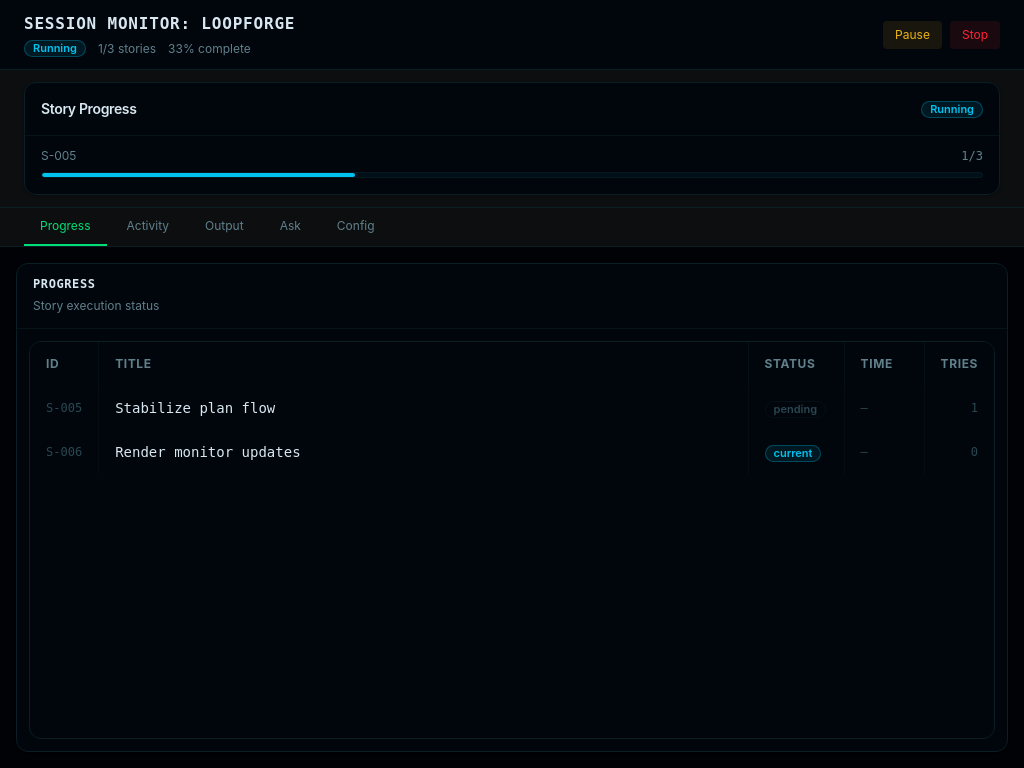
Scenario: Monitor › renders live session state and responds to iteration events
Check: the heading "SESSION MONITOR: LoopForge" is shown, box 24,14 -> 295,33
Check: the text "Running" is shown 2 times, box 24,40 -> 86,57; 921,100 -> 983,118
Step 1. Click the tab "Activity" → [148, 227], box 110,208 -> 185,246
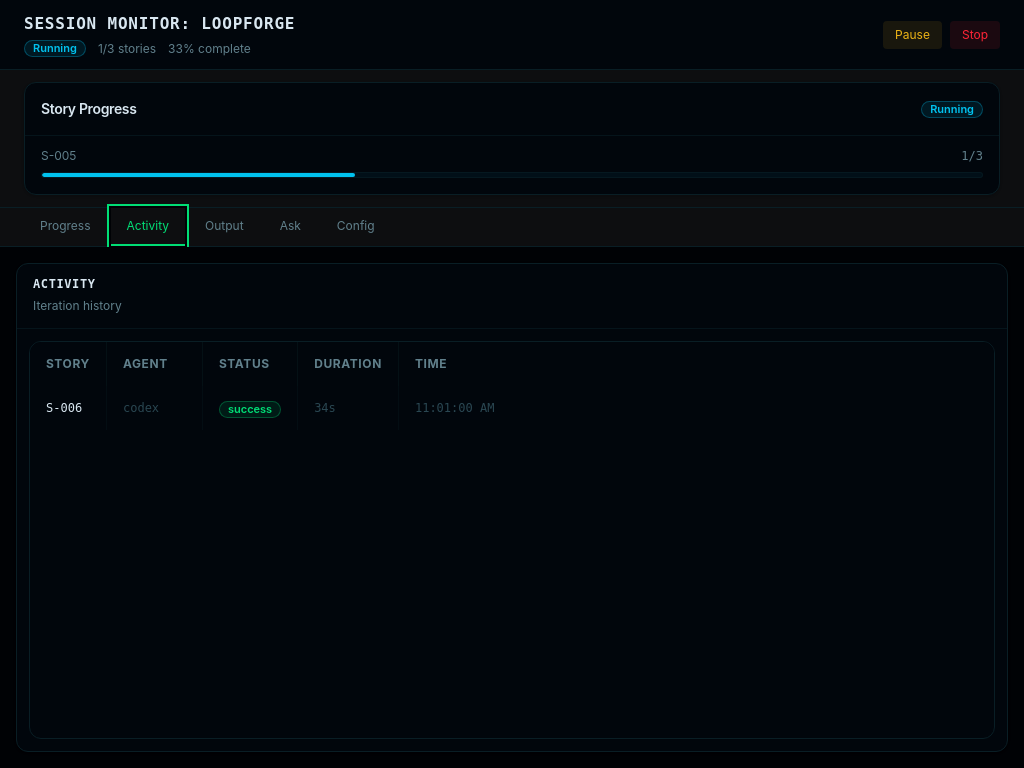
Check: the text "S-006" is shown, box 46,400 -> 82,414
Check: the text "success" is shown, box 219,400 -> 281,418
Check: the text "codex" is shown, box 123,400 -> 159,414
